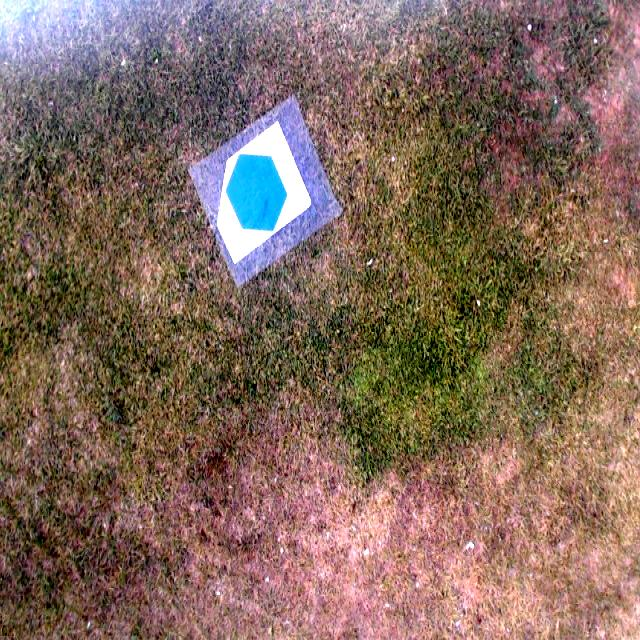blue_hexagon: (226, 152, 287, 233)
